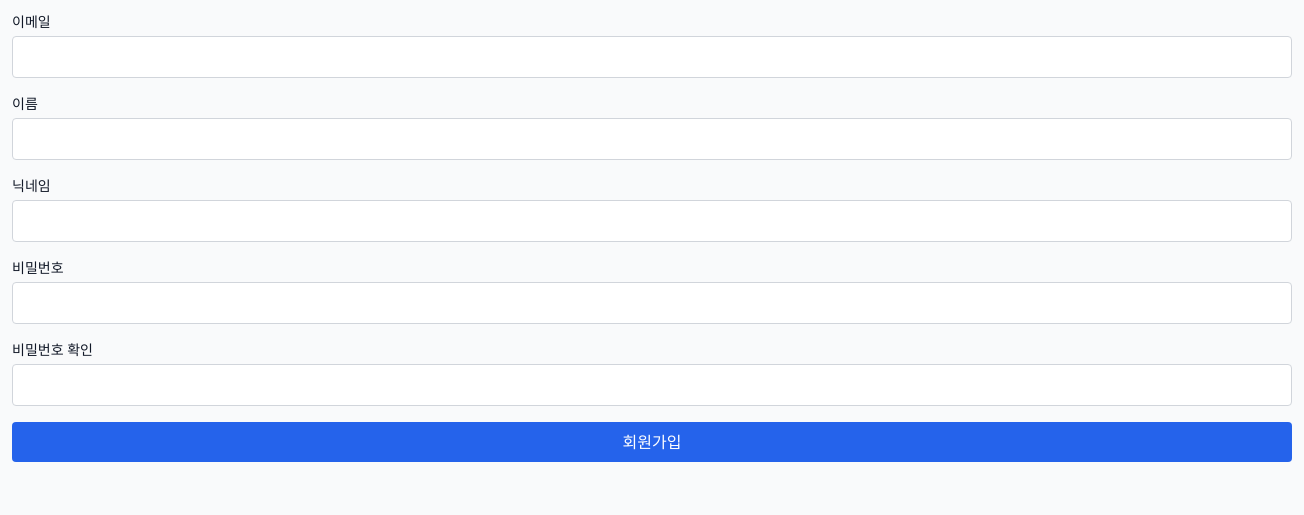
Test: SignupForm › 409 이면 중복 이메일 문구
Type "new@learnkk.local" into the field with test id "signup-email" at (652,57), box x1=12 y1=36 x2=1292 y2=78
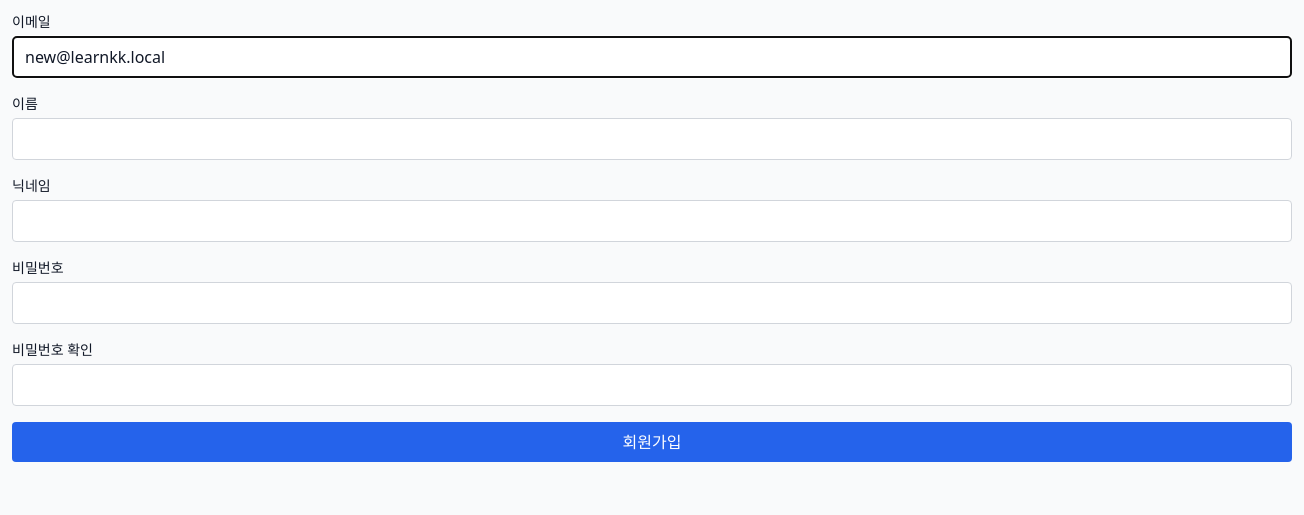
Type "홍길동" into the field with test id "signup-name" at (652,139), box x1=12 y1=118 x2=1292 y2=160
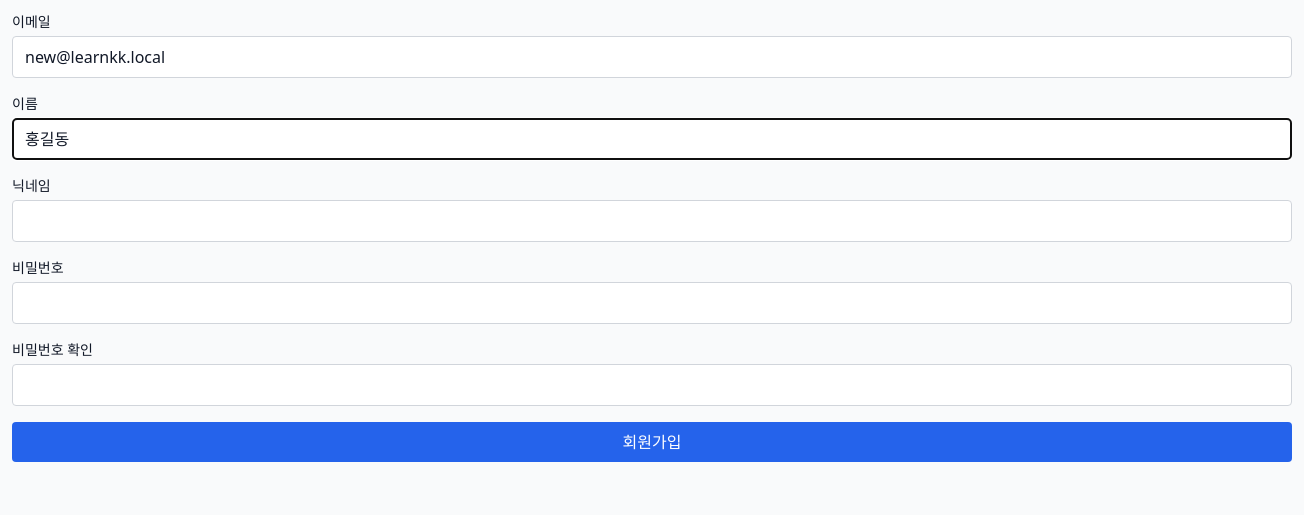
Type "gil" into the field with test id "signup-nickname" at (652,221), box x1=12 y1=200 x2=1292 y2=242
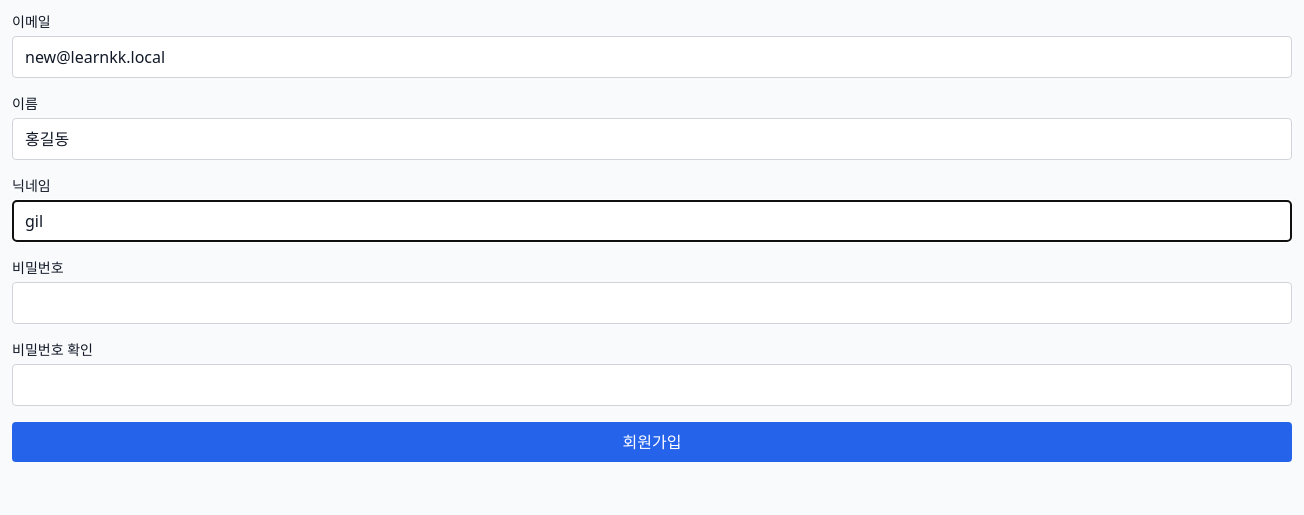
Type "password123" into the password field with test id "signup-password" at (652,303), box x1=12 y1=282 x2=1292 y2=324
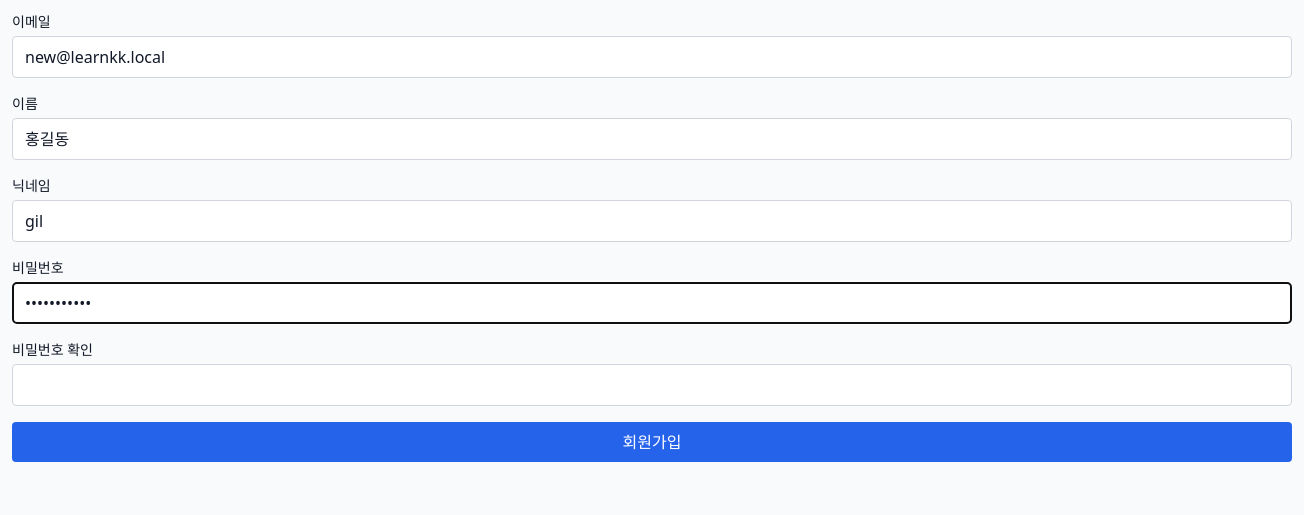
Type "password123" into the password field with test id "signup-password-confirm" at (652,385), box x1=12 y1=364 x2=1292 y2=406
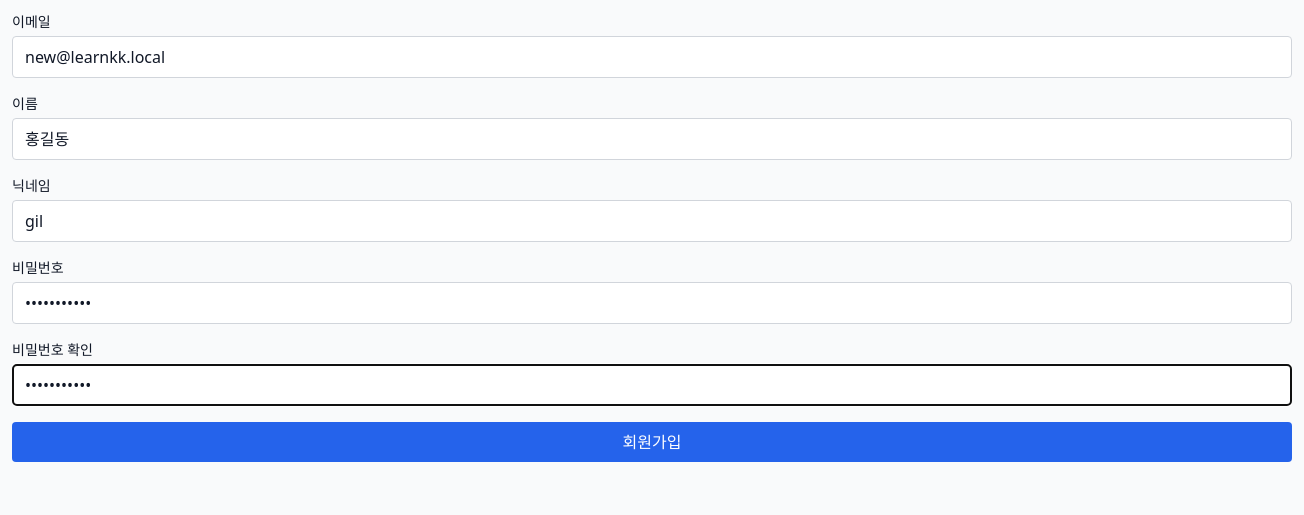
Click the button with test id "signup-submit" at (652,442), box x1=12 y1=422 x2=1292 y2=462
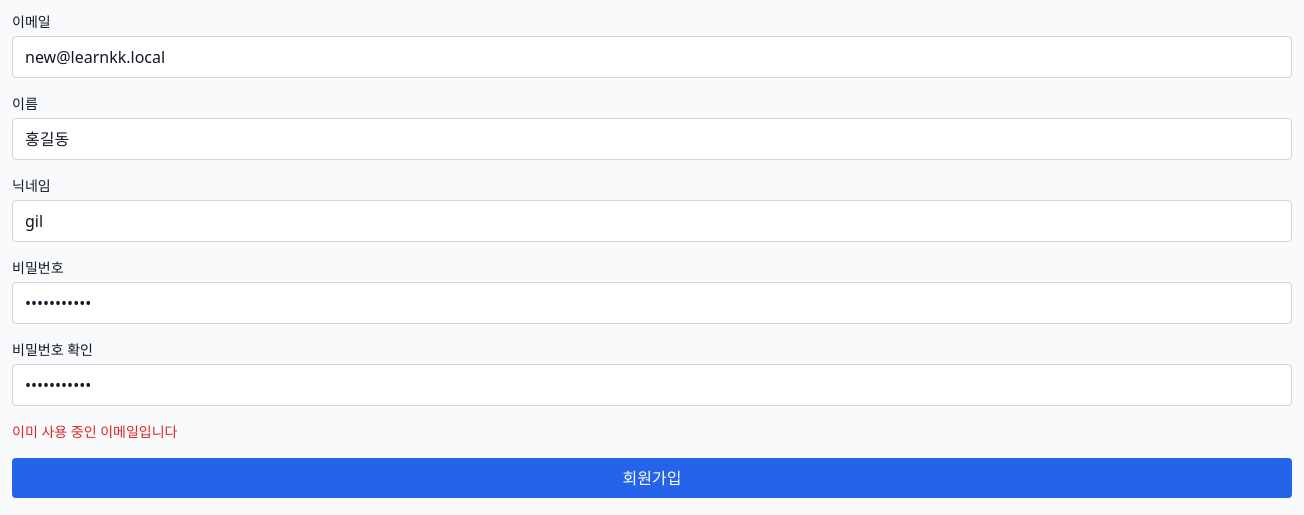
Now the message with test id "signup-error" reads "이미 사용 중인 이메일입니다", box x1=12 y1=422 x2=178 y2=441
